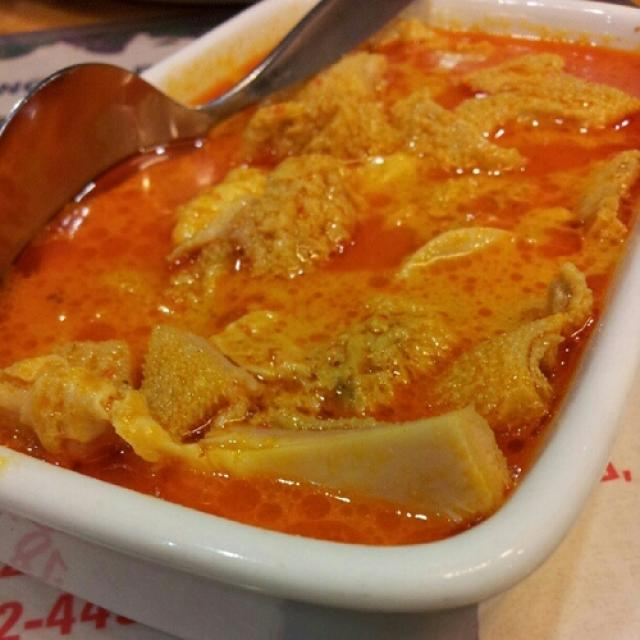熟制海鲜: (12, 10, 631, 616)
